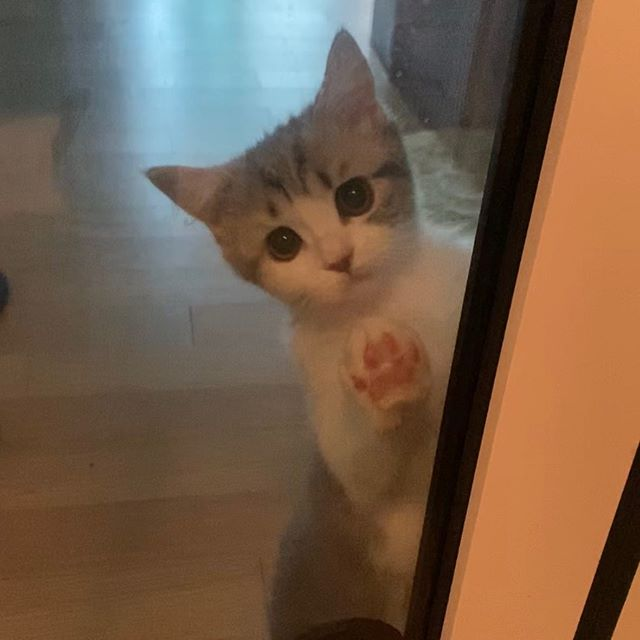cat: (141, 31, 430, 303)
